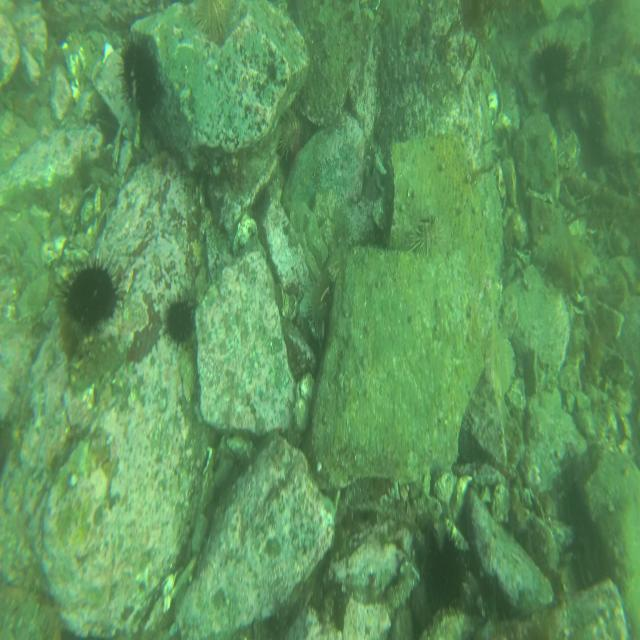echinus: (54, 258, 126, 329), (420, 531, 474, 622), (116, 31, 162, 123), (162, 290, 202, 352), (536, 30, 573, 92), (407, 213, 449, 262), (306, 268, 337, 330), (276, 106, 304, 159), (190, 0, 230, 34)
